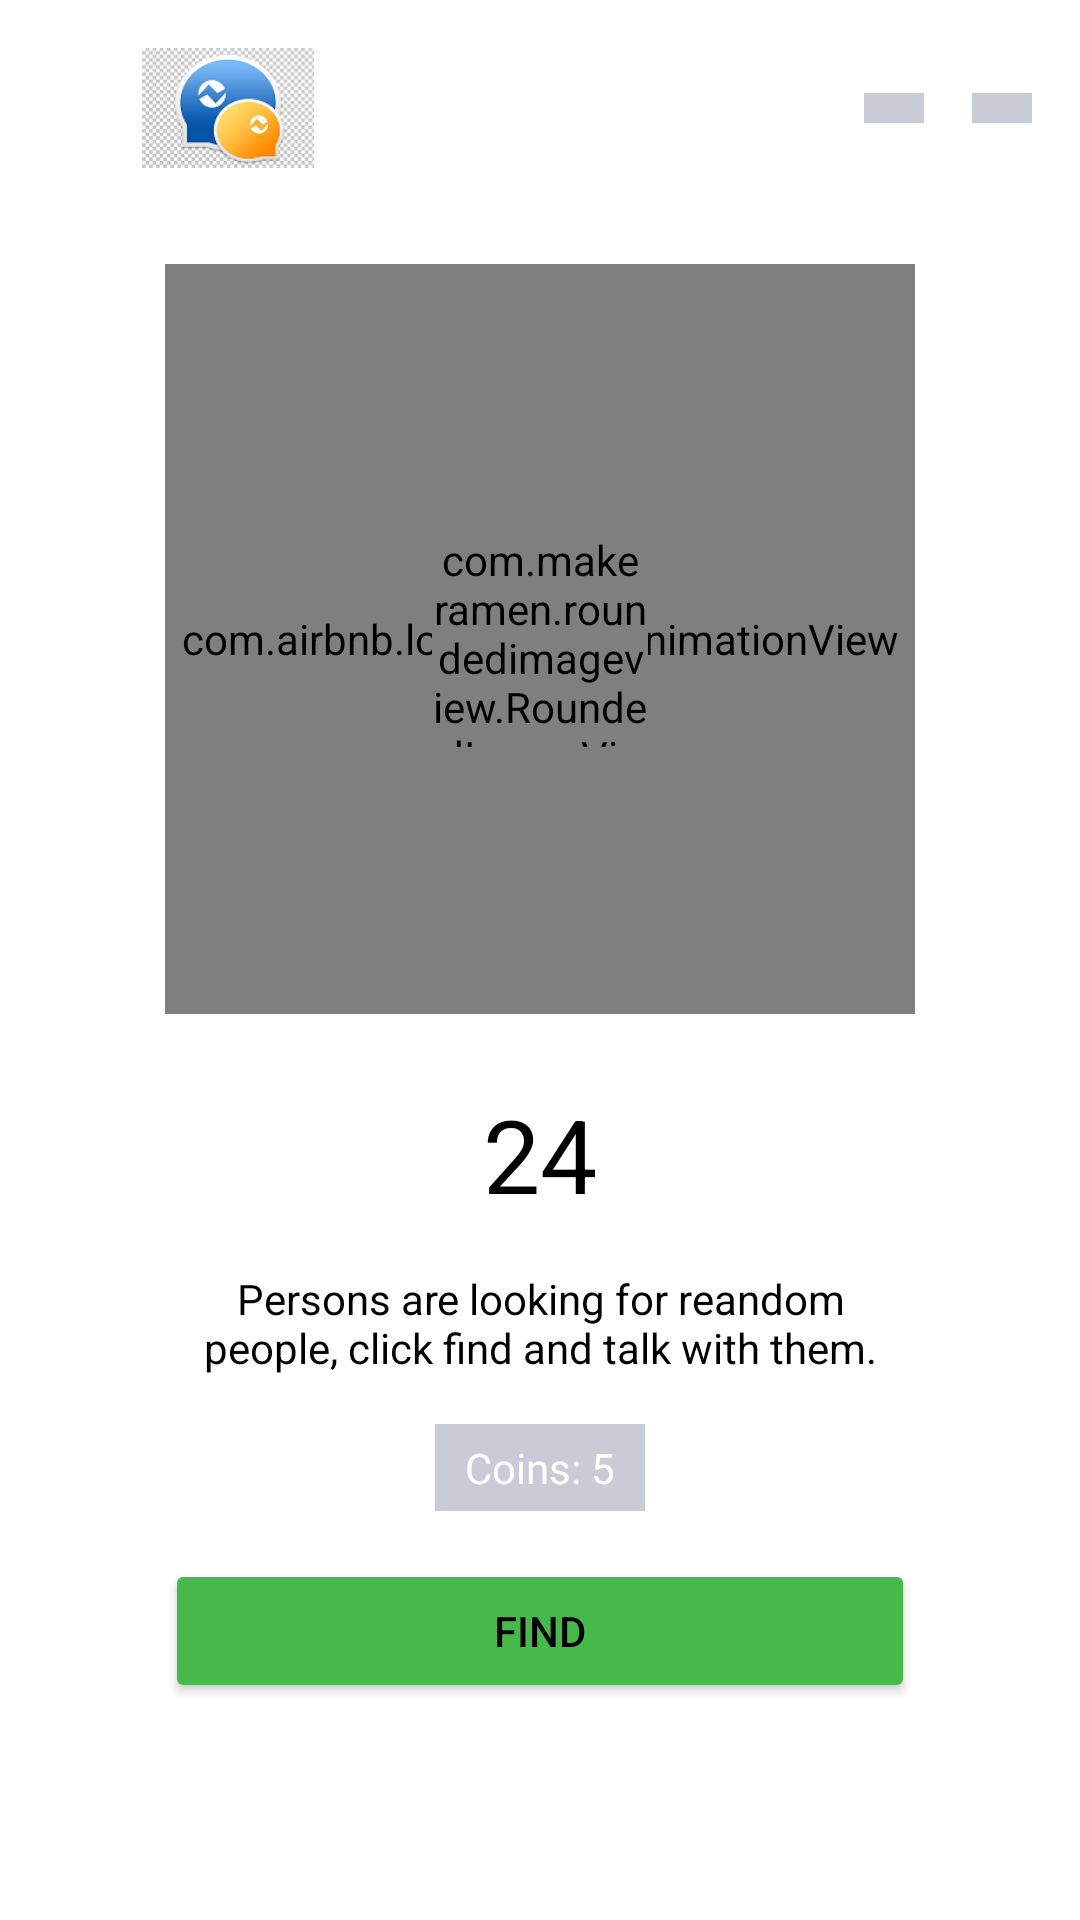

Screen size 1080px x 1920px. Icon name, then its center in pixels as [x,y]:
app: [228,108]
